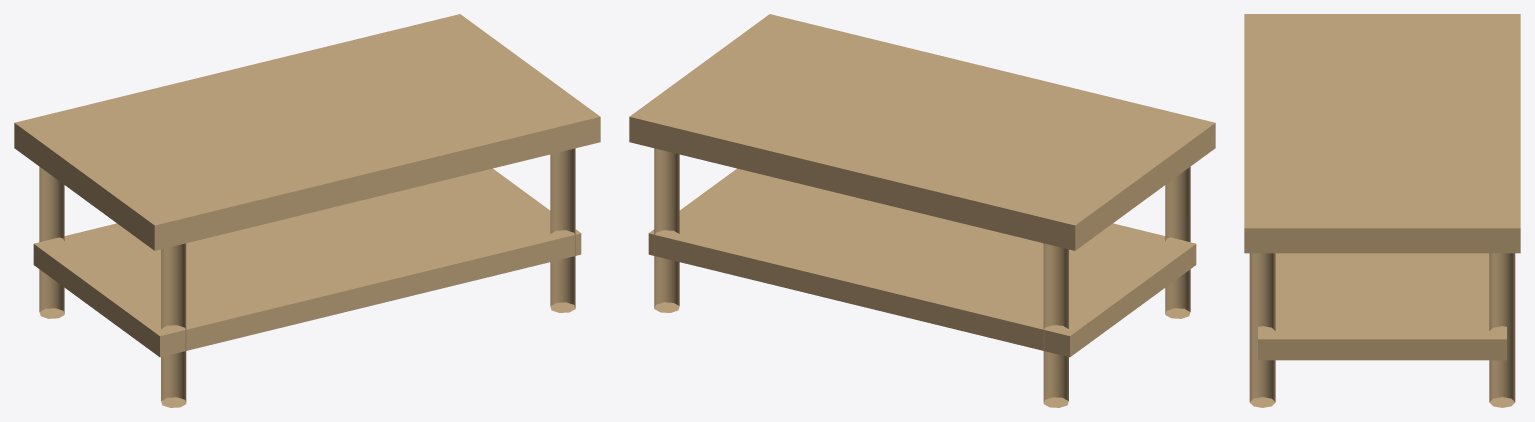
File: coffee-table.glb
3 renders of one model, left to right at view 1: azimuth 30°, elevation 25°; view 2: azimuth 150°, elevation 25°; view 3: azimuth 270°, elevation 25°, orthographic.
Bounding box in the file's own units: 1.1 × 0.45 × 0.6.
